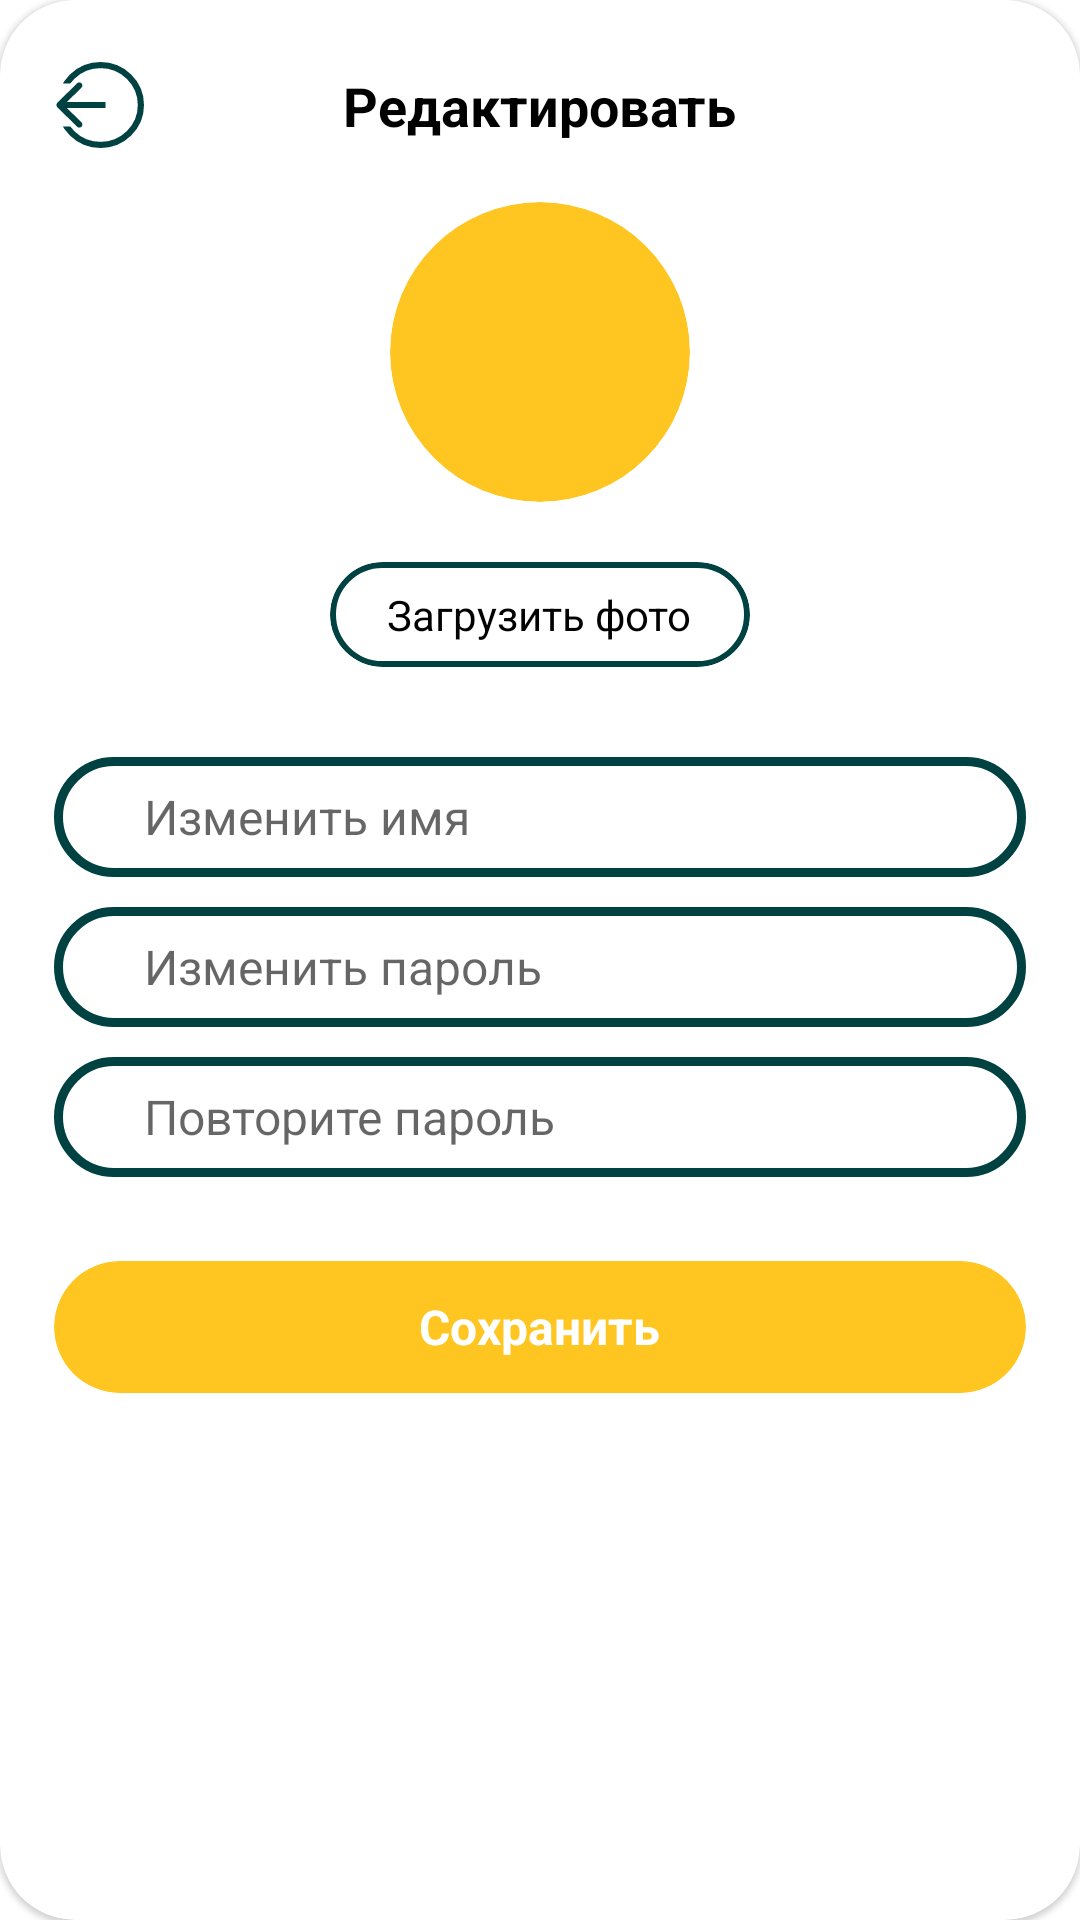

Locate icon controls on the screen. Image size 1080*1920, boxes as (x1,y1,x2,y2).
exit main: (56,62,144,148)
